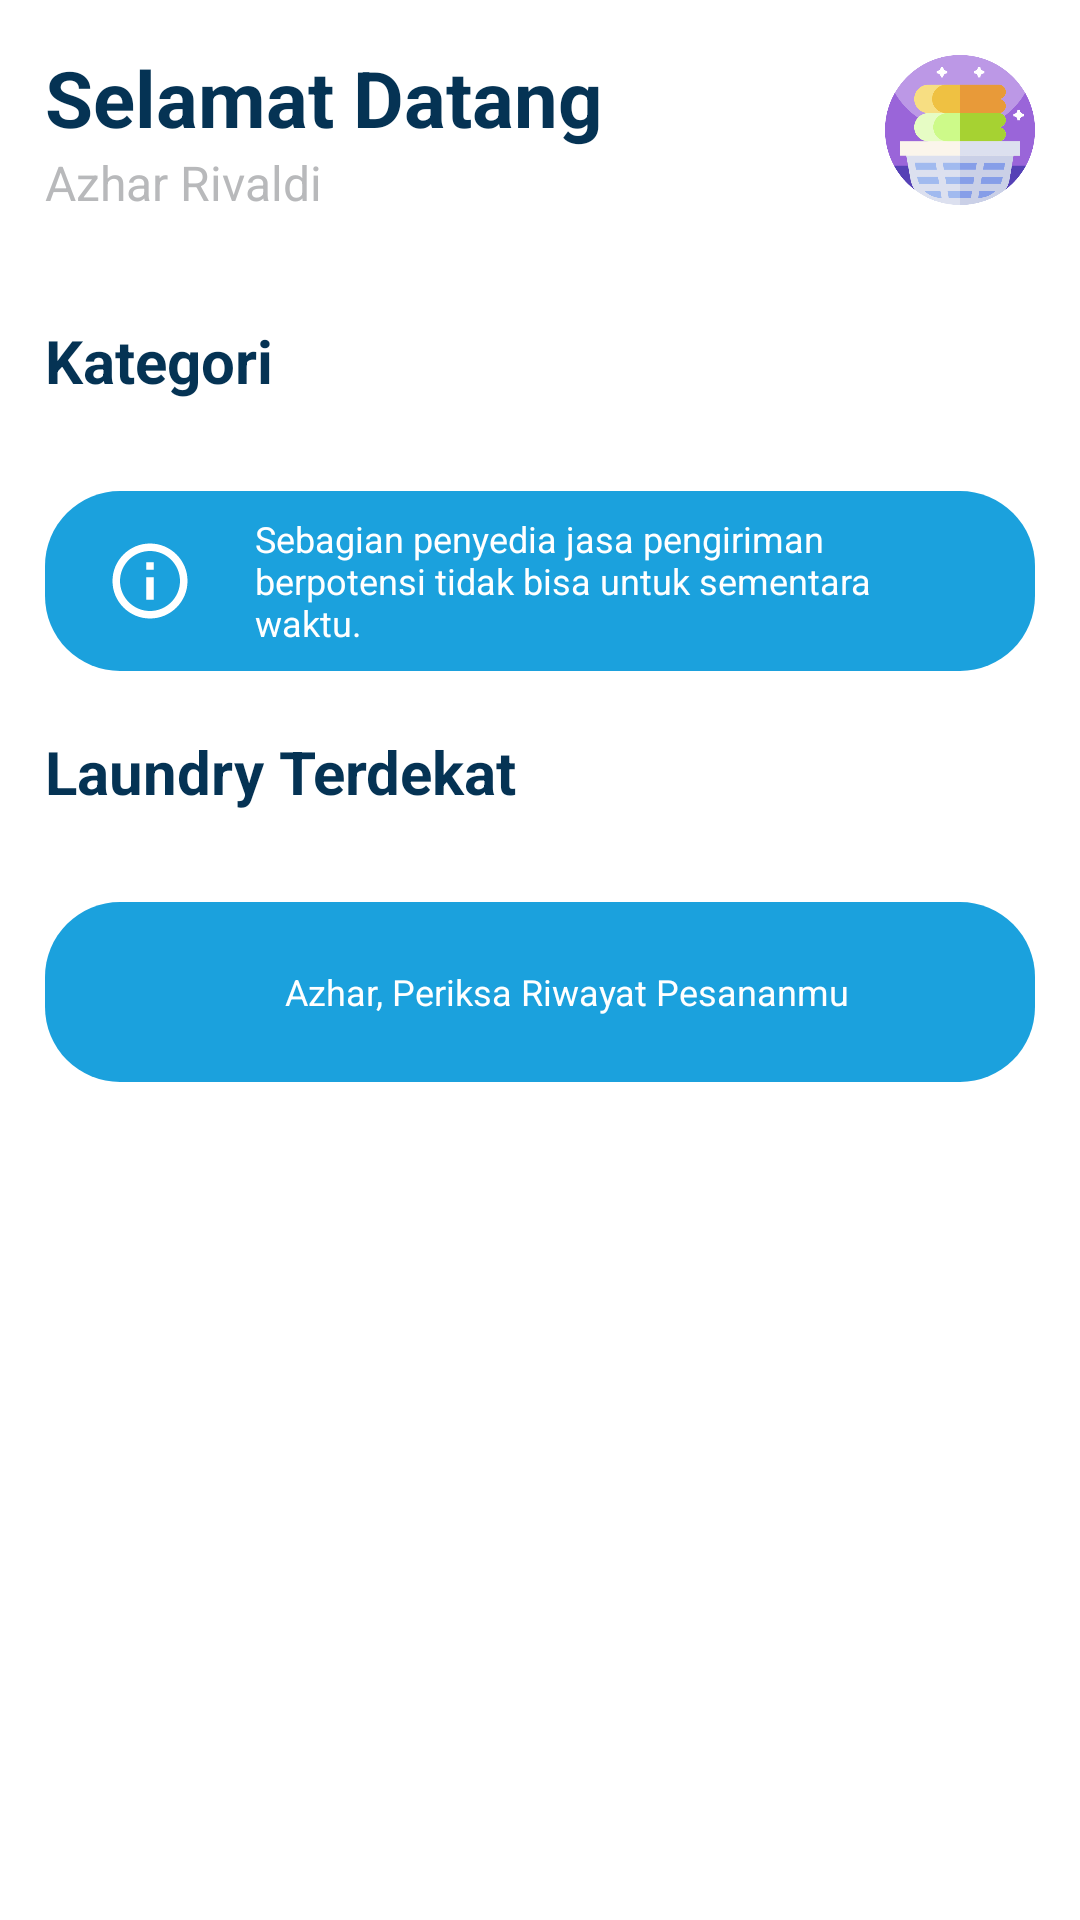

Named icons in this screenshot (1080*1920) and their bounding boxes, (x1, y1, x2, y2):
info: (112, 543, 188, 619)
laundry: (885, 55, 1035, 205)
